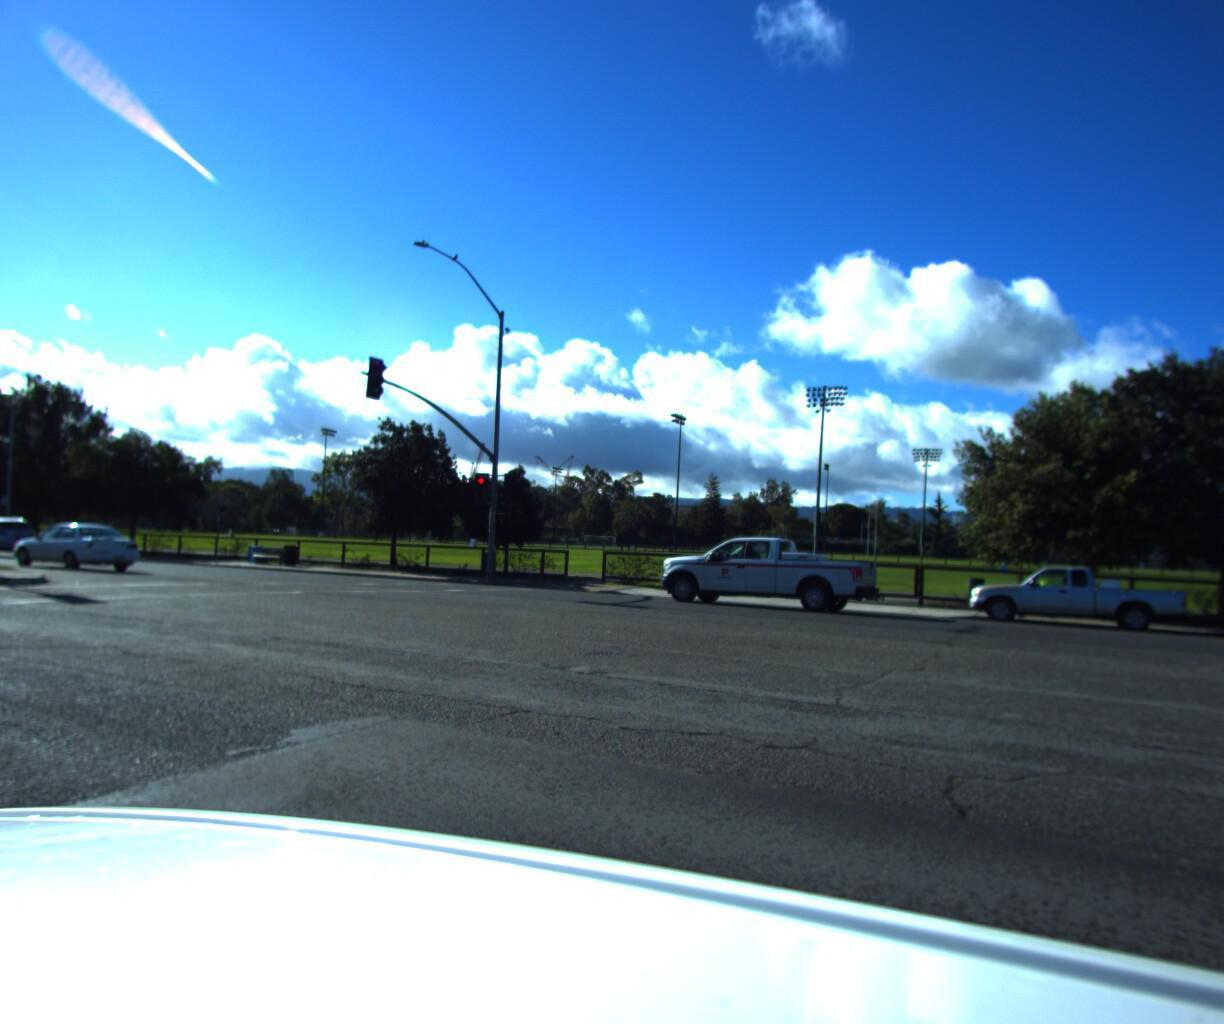car: (646, 524, 886, 612), (961, 554, 1195, 634), (0, 515, 149, 571)
